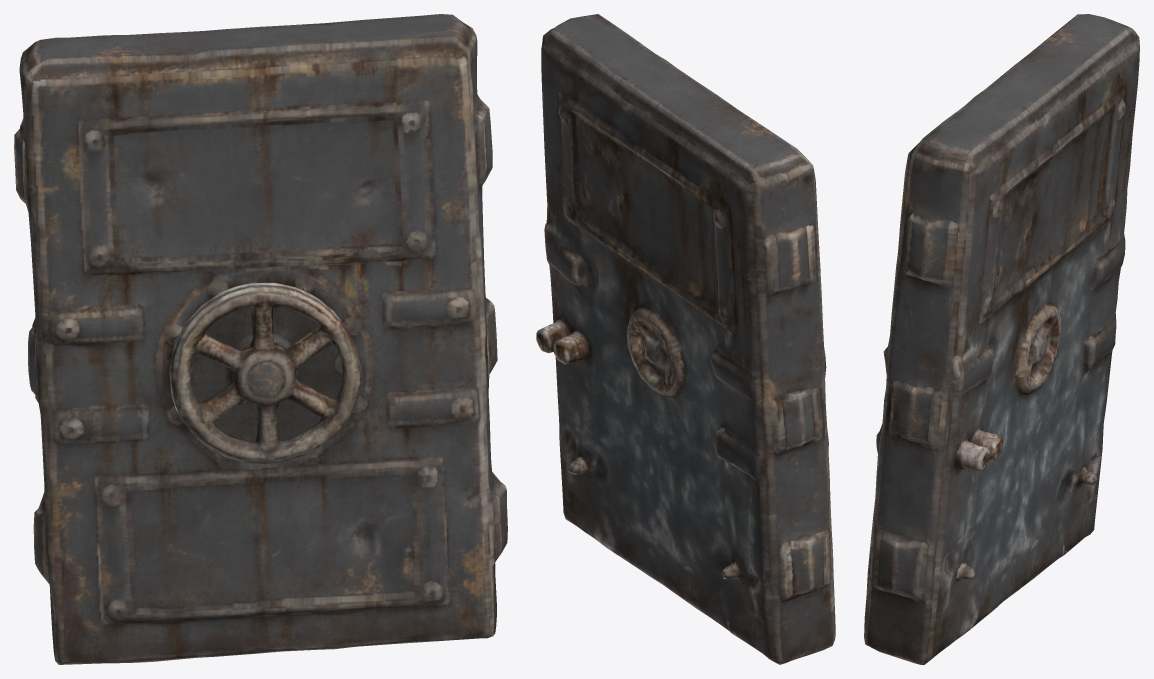
File: bunker_blast_door_raw.glb
The picture shows the model from 3 angles, left to right: view 1: azimuth 30°, elevation 25°; view 2: azimuth 150°, elevation 25°; view 3: azimuth 270°, elevation 25°; orthographic projection. The views are drawn at different scales.
Size of the model in its own units: 0.57 by 0.86 by 0.4101.
Materials: 1 (1 with a texture image).
